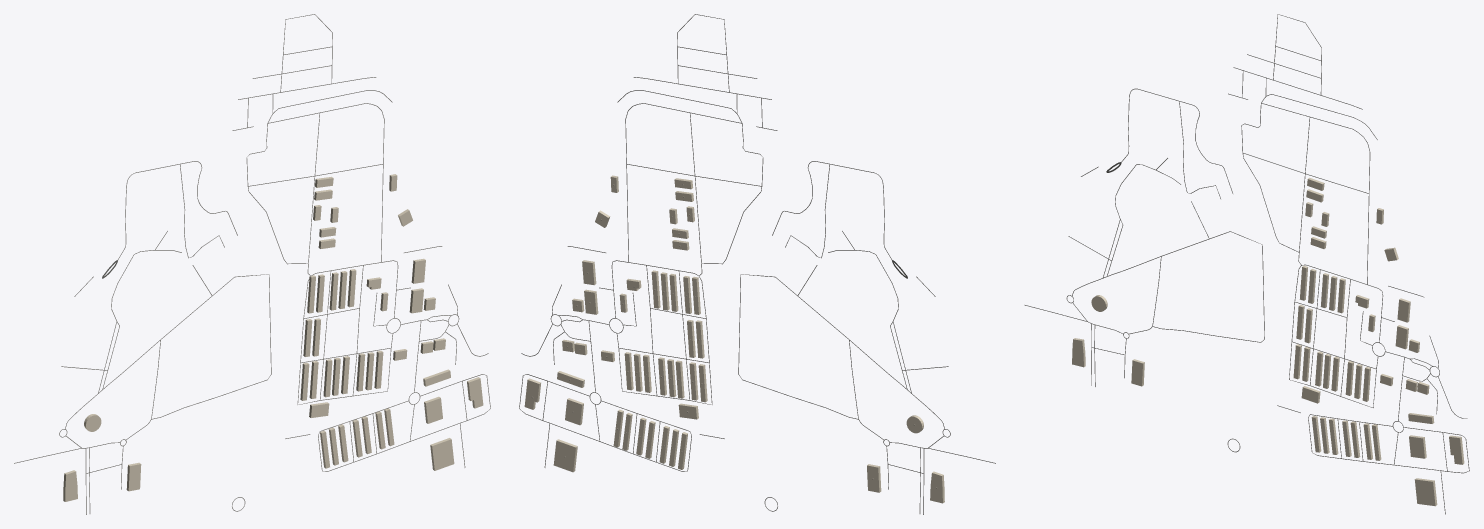
The model's file is zarqa_3612_3202.glb.
The picture shows the model from 3 angles, left to right: view 1: azimuth 30°, elevation 25°; view 2: azimuth 150°, elevation 25°; view 3: azimuth 330°, elevation 25°; orthographic projection. The views are drawn at different scales.
Parts seen in each view (by area): view 1: Building_, Road .002; view 2: Building_, Road .002; view 3: Building_.
Part boxes in pixels (<box>): Building_: <box>430,438,454,470</box>; Road .002: <box>65,274,271,428</box>; Building_: <box>553,439,577,472</box>; Road .002: <box>738,274,944,429</box>; Building_: <box>1414,478,1437,506</box>.
Size of the model in its own units: 1076 by 1063 by 8.7.
